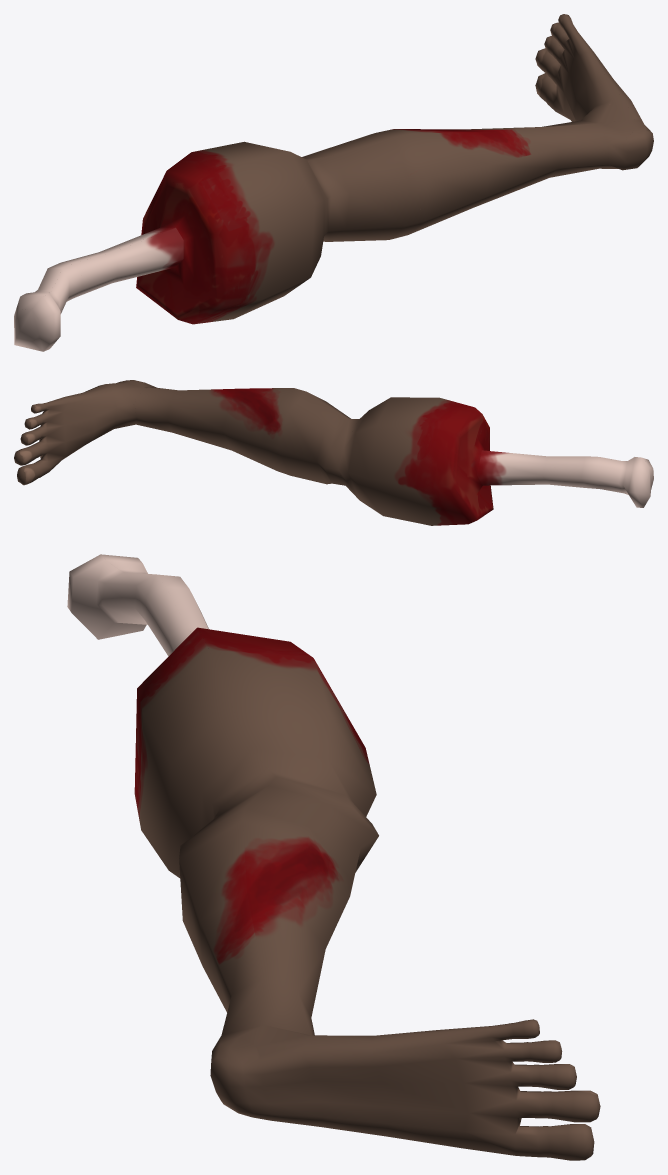
Rendered from Pierna.fbx.
The picture shows the model from 3 angles, top to bottom: view 1: azimuth 30°, elevation 25°; view 2: azimuth 150°, elevation 25°; view 3: azimuth 270°, elevation 25°; orthographic projection. The views are drawn at different scales.
Visible parts, largest first — view 1: Pierna; view 2: Pierna; view 3: Pierna.
Boxes of the visible parts, x1=… form: Pierna: x1=14, y1=14, x2=653, y2=351; Pierna: x1=14, y1=380, x2=653, y2=525; Pierna: x1=67, y1=554, x2=600, y2=1160.
Size of the model in its own units: 362 by 75.82 by 161.
